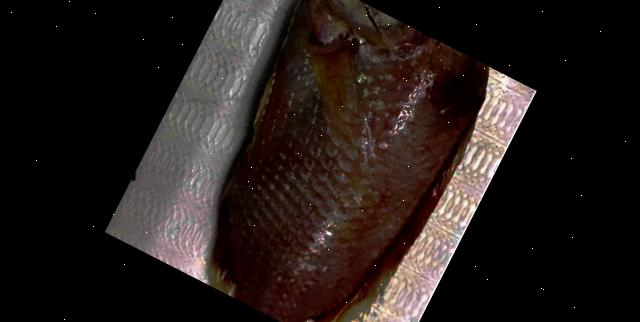Tilapia Lake Virus -TiLV-: (210, 0, 487, 322)
